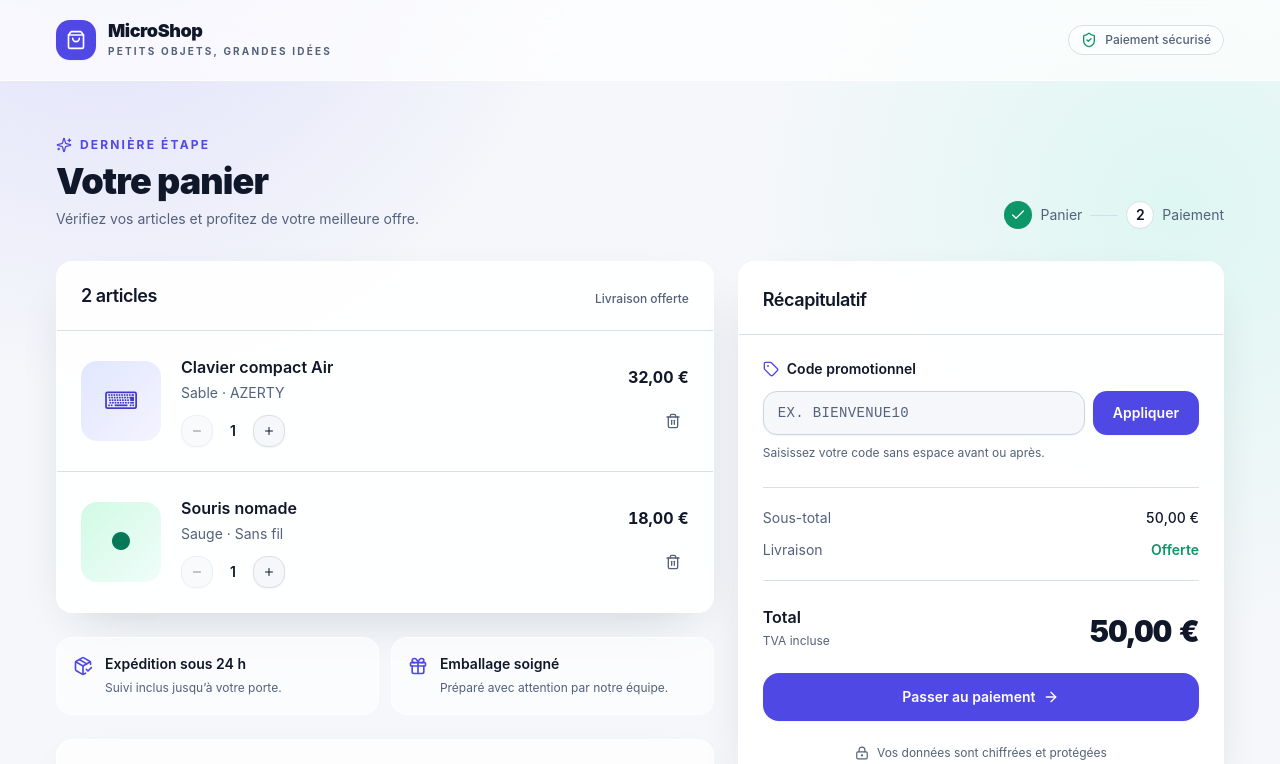
gestion des codes promotionnels au panier › affiche sans la modifier l'erreur d'expiration renvoyée par l'API
Type "ANCIEN10" into the field labelled "Code promotionnel" at (924, 413), box left=763, top=391, right=1085, bottom=435
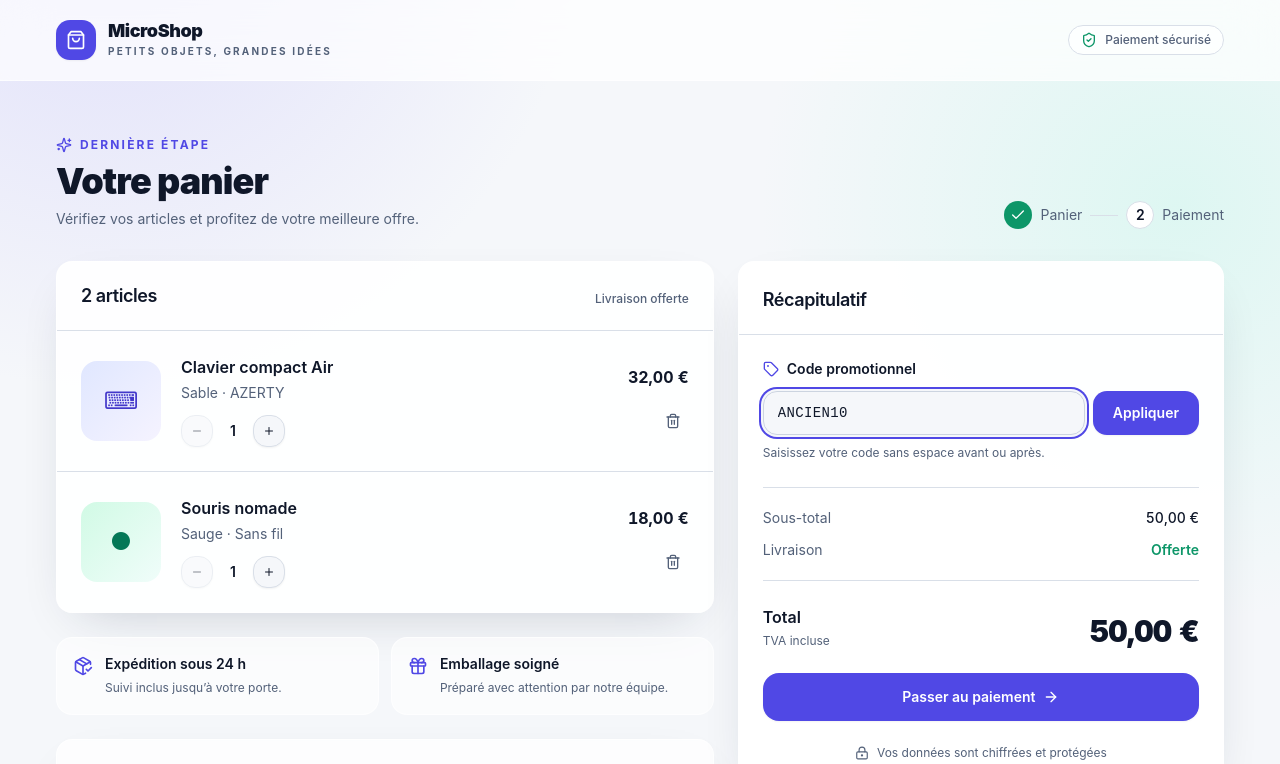
Click the button "Appliquer" at (1146, 413), box left=1093, top=391, right=1199, bottom=435
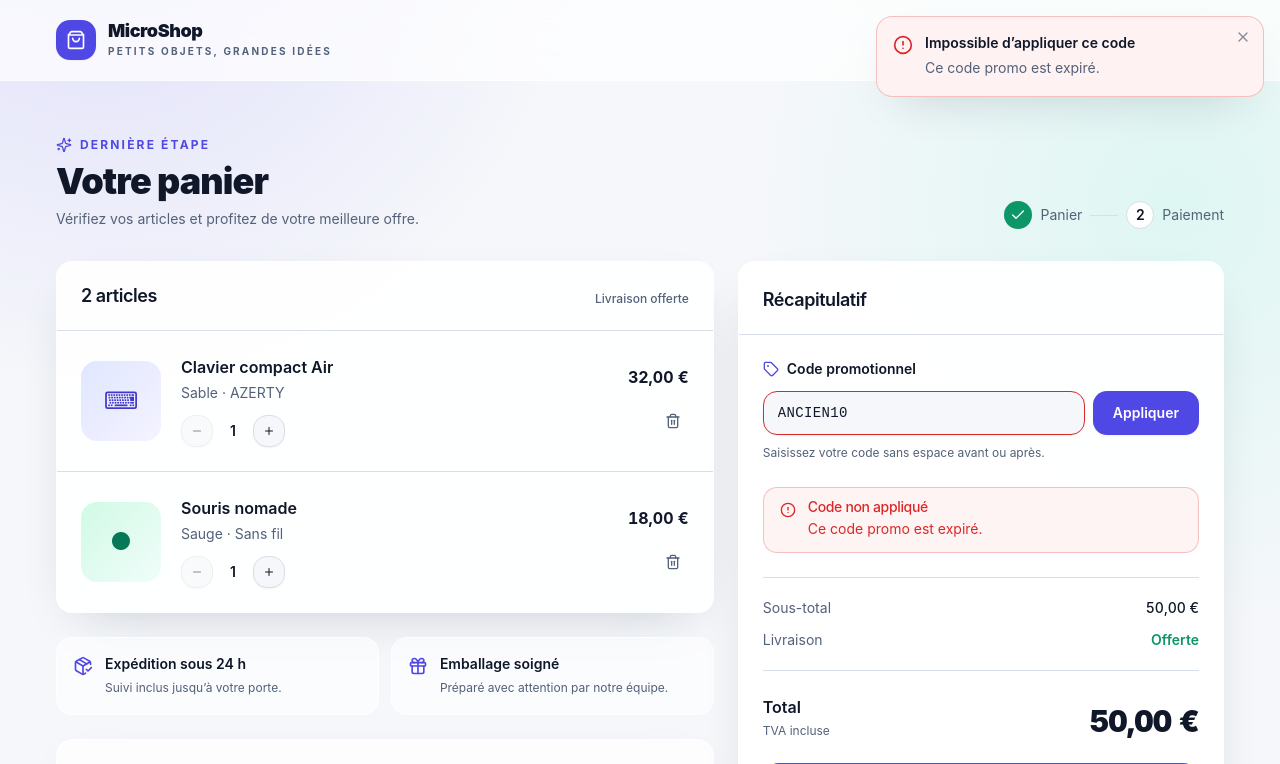
Expected: the text with test id "order-total" reads "50,00 €", left=1090, top=703, right=1199, bottom=739
Expected: the text "Code non appliqué" shows "Ce code promo est expiré.", left=808, top=520, right=983, bottom=536
